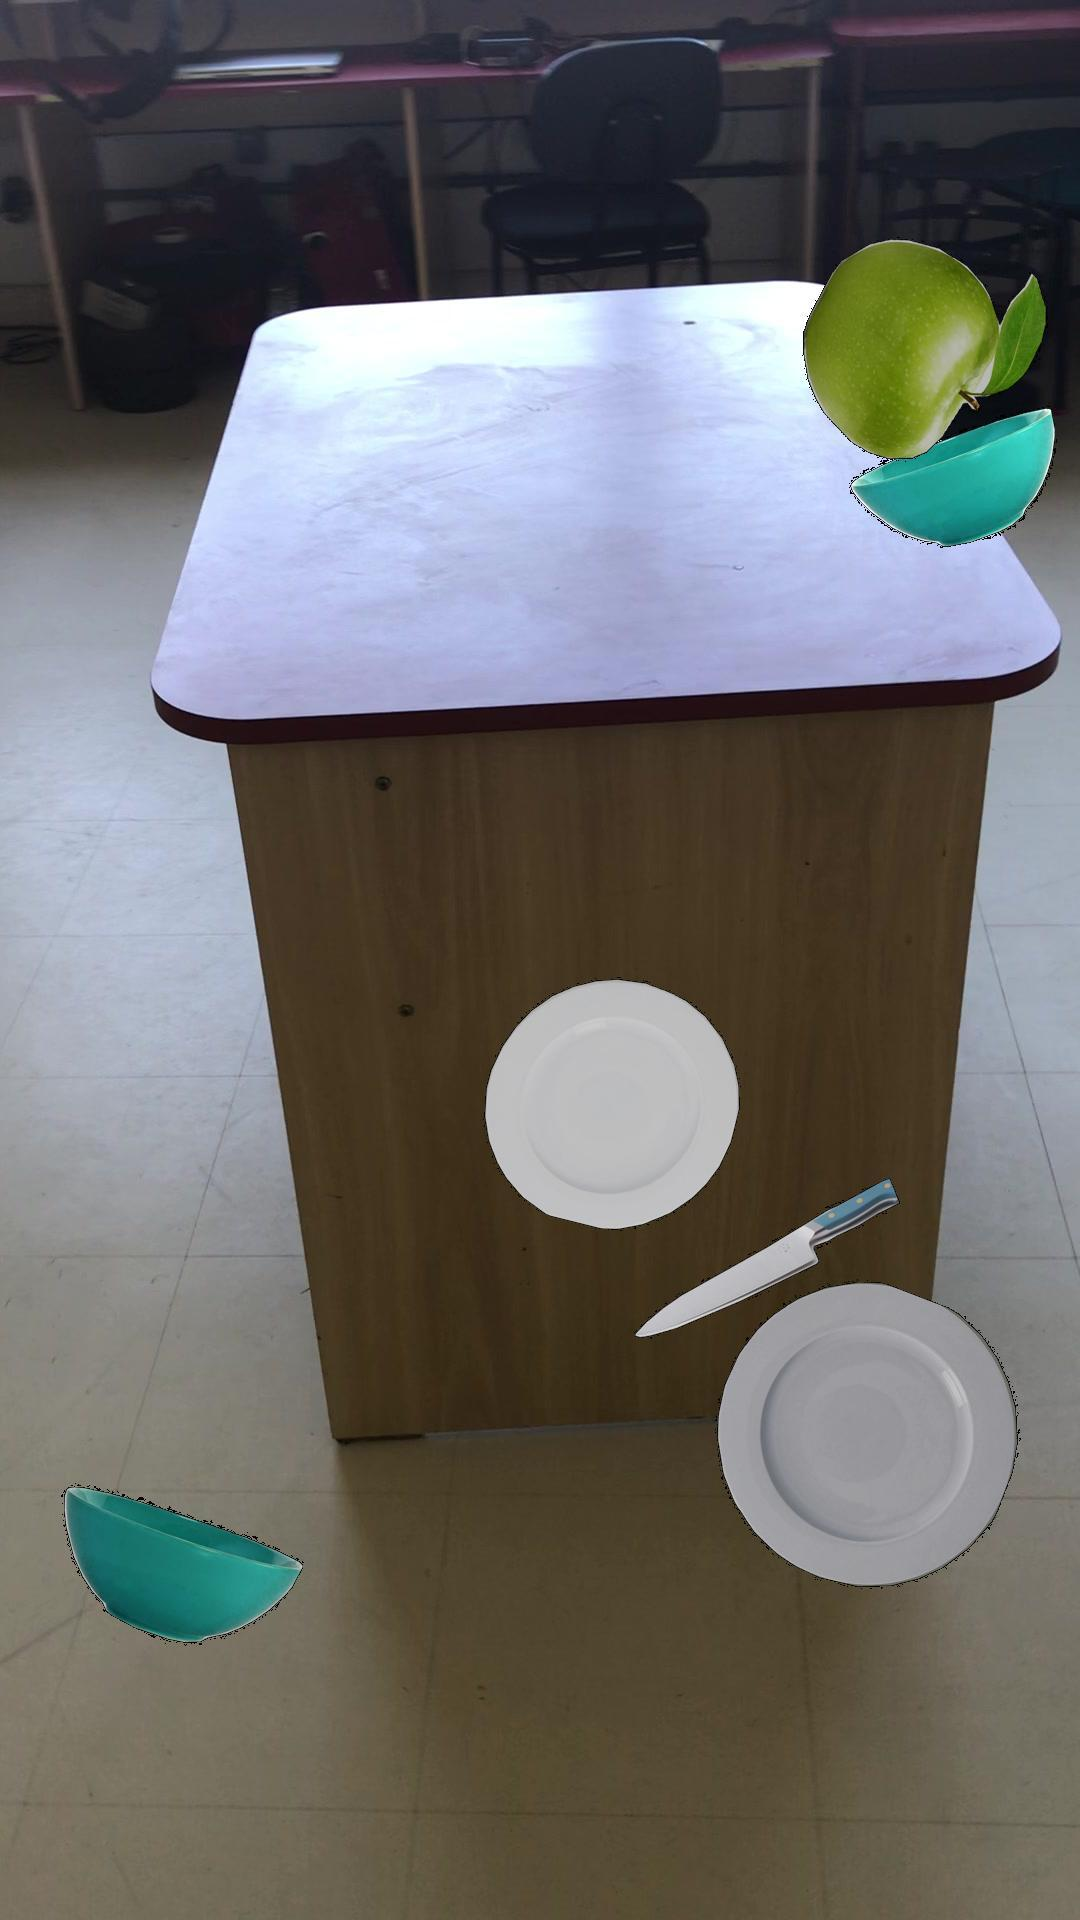bowl: (62, 1485, 302, 1643), (848, 406, 1055, 546)
green apple: (802, 237, 1047, 458)
knife: (633, 1176, 898, 1337)
plate: (716, 1280, 1018, 1585), (483, 977, 738, 1229)
